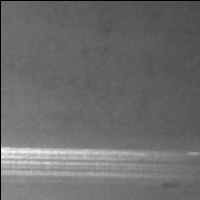scratches: (1, 146, 180, 176)
